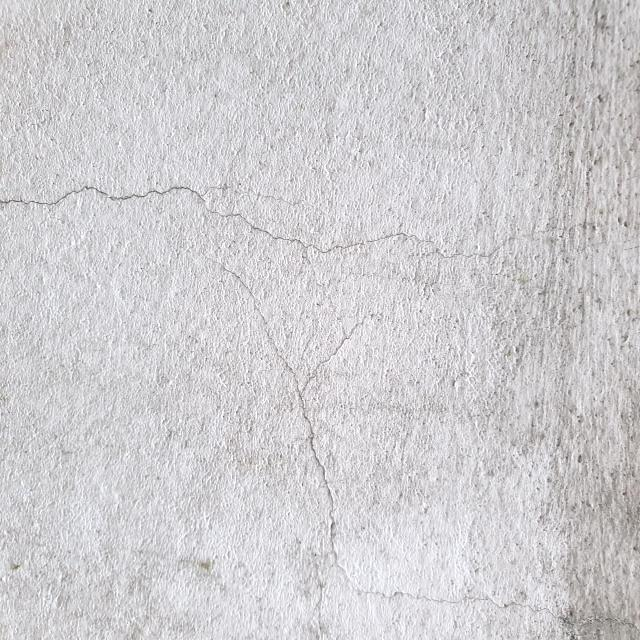SurfaceCrack: (1, 151, 627, 304)
